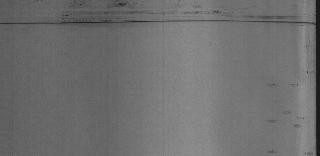scratches: (14, 19, 310, 32)
